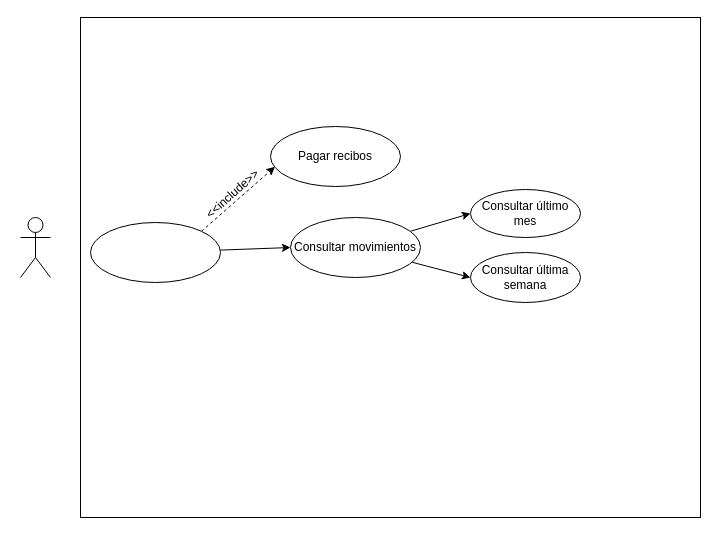
Some shapes in this 718 by 535 pixel diagram are drawn without their labels. The box of each missing label's shape, as (x1, y1, x2, y2) in pixels:
Autenticar credenciales: (90, 222, 220, 282)
Cliente: (20, 216, 50, 278)
